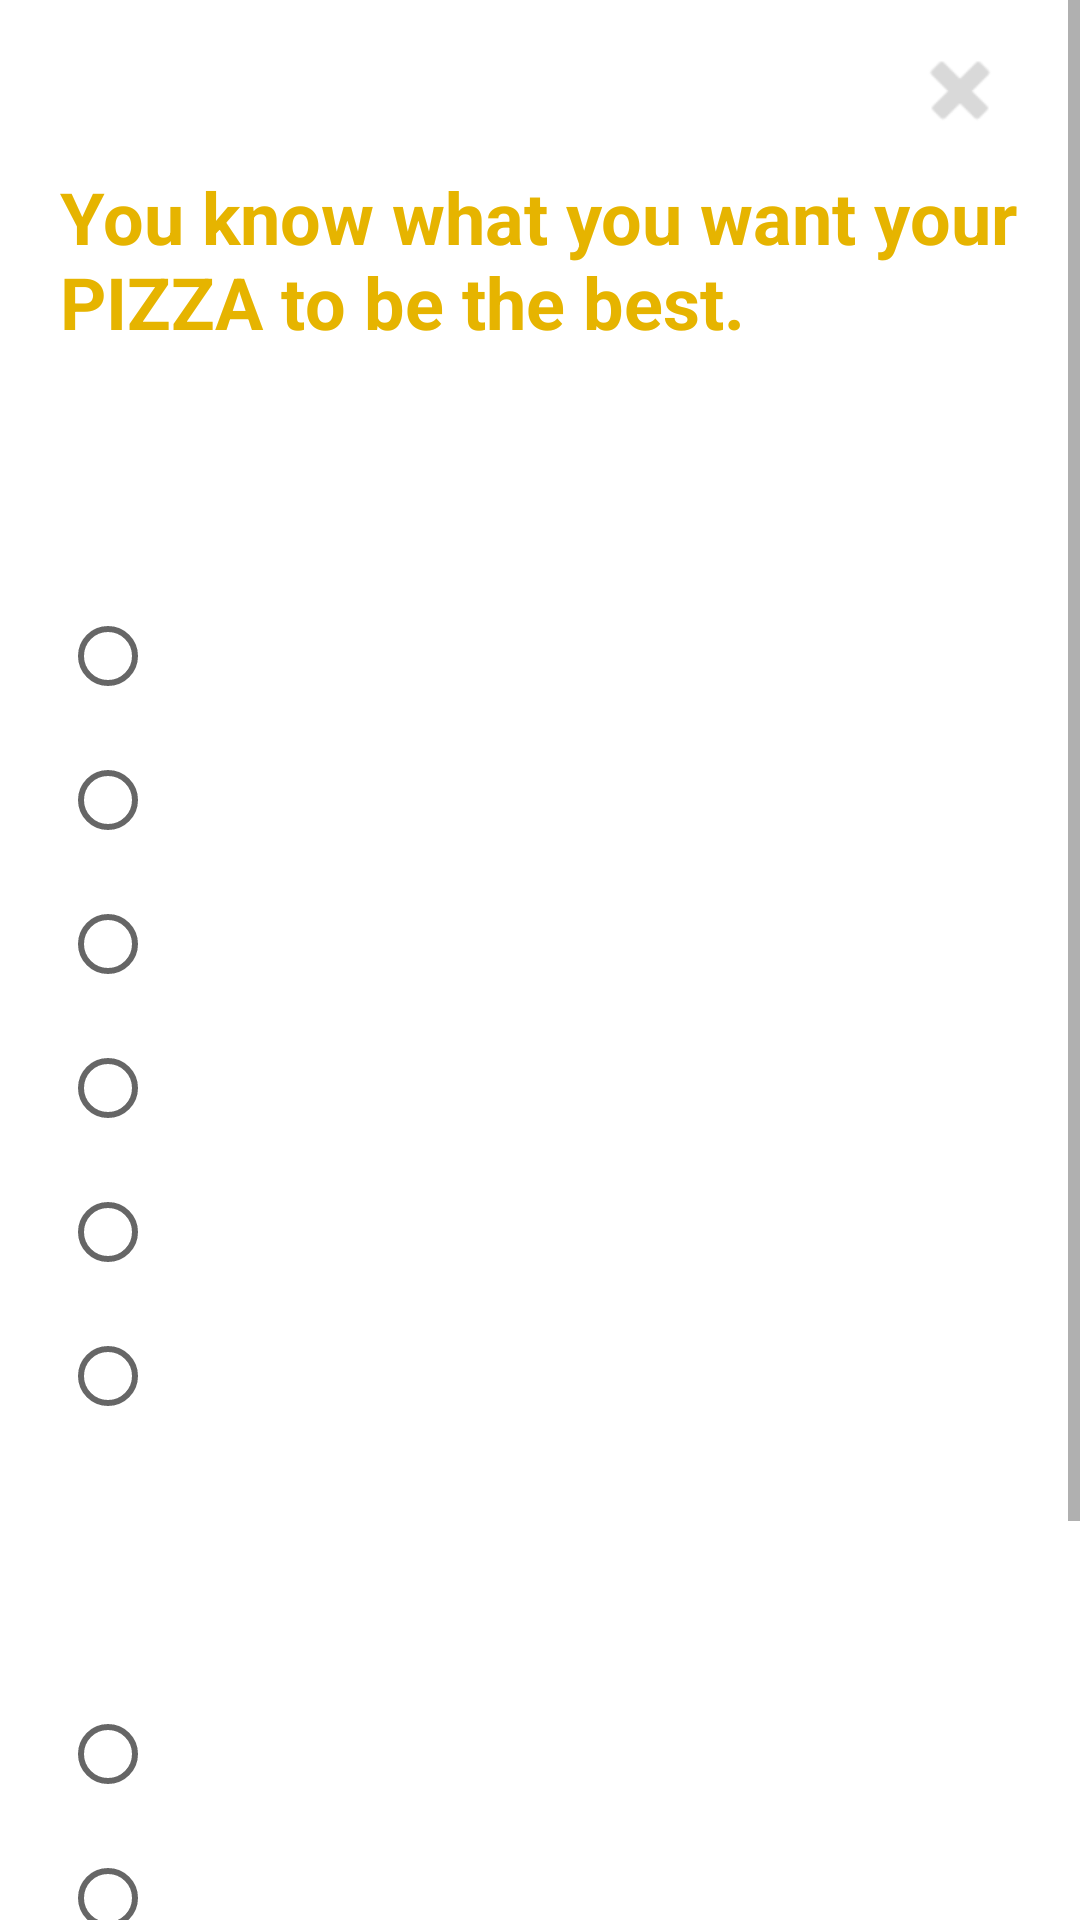

Locate icon controls on the screen. Image size 1080 x 1920, boxes as [x1, y1, x2, y2].
delete: [931, 62, 989, 118]
